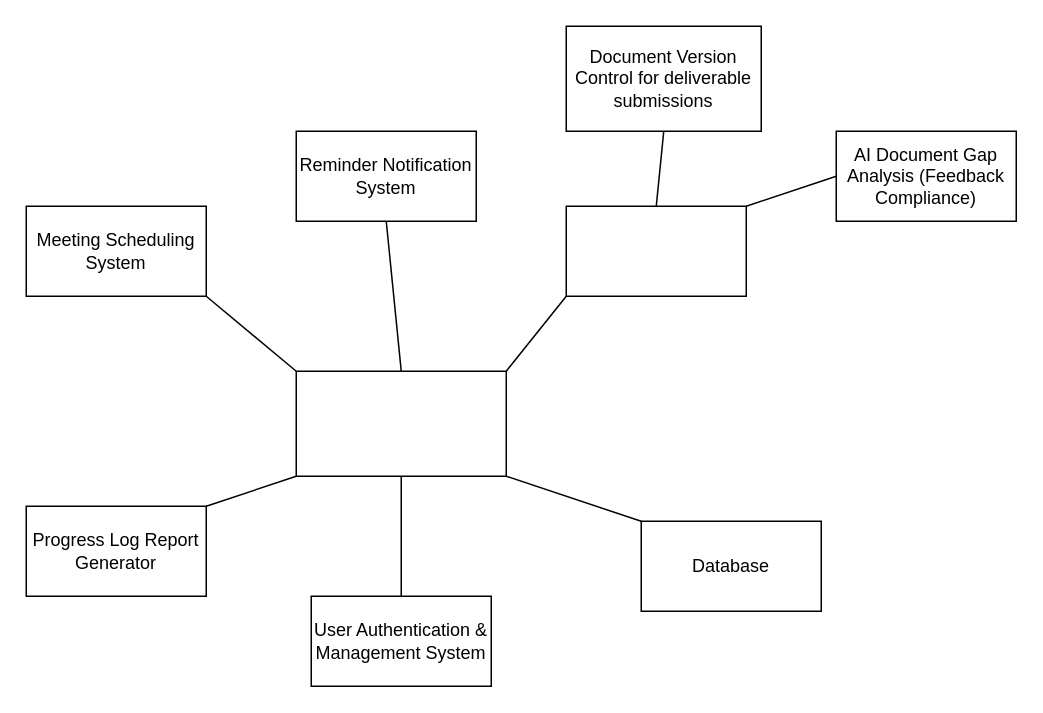
Some shapes in this 1043 by 713 pixel diagram are drawn without their labels. Here are the shapes that lost their labels. From the top down, the centre of each, then its label:
(655,250): Assignment Management
(400,423): Project Management System
